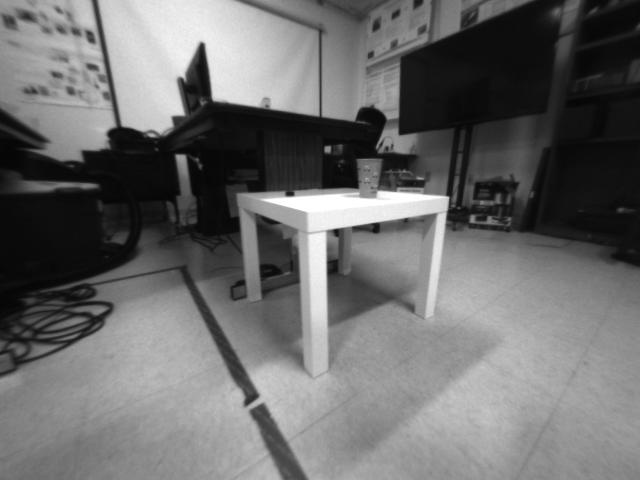coffee_cup: (353, 154, 383, 199)
